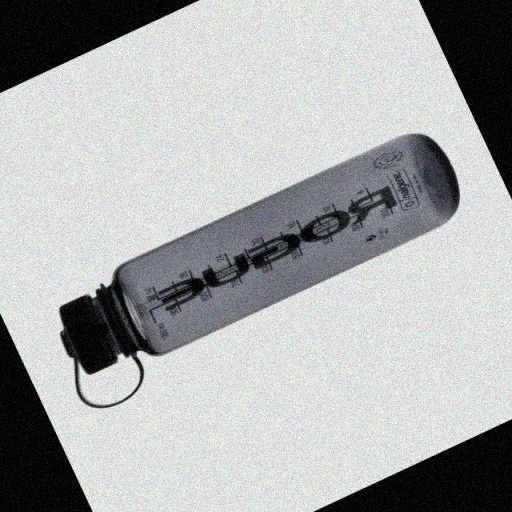bottle: (32, 117, 487, 420)
